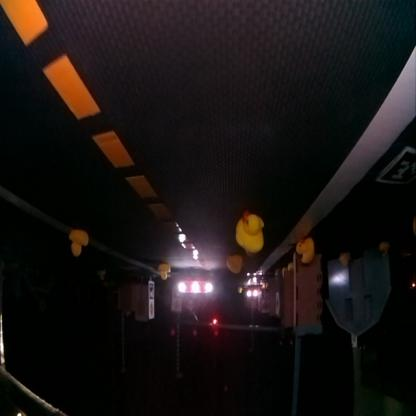Duckie: (237, 217, 263, 253), (69, 231, 88, 255), (296, 240, 312, 264), (228, 256, 244, 274), (159, 266, 169, 280)
Duckiebot: (178, 276, 214, 300)
QR code: (378, 148, 414, 186)
